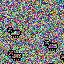sheep: (6, 26, 21, 38), (8, 50, 22, 61), (44, 40, 58, 51)
